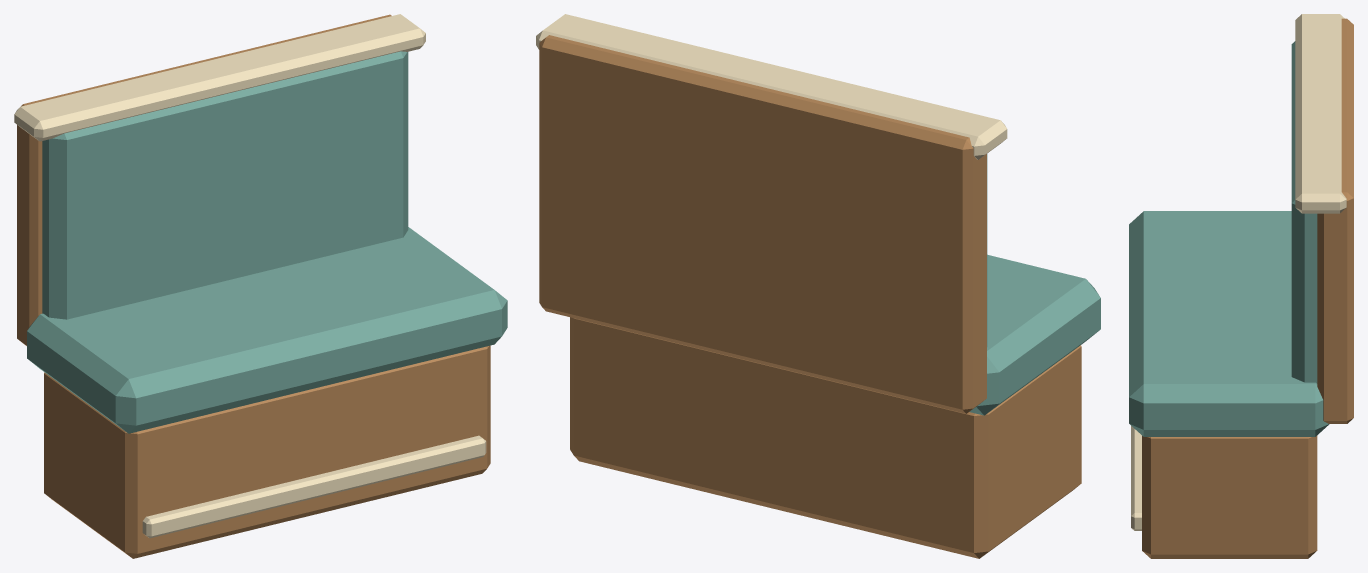
3 renders of one model, left to right at view 1: azimuth 30°, elevation 25°; view 2: azimuth 150°, elevation 25°; view 3: azimuth 270°, elevation 25°, orthographic. The views are drawn at different scales.
Visible parts, largest first — view 1: dining-booth-straight-01; view 2: dining-booth-straight-01; view 3: dining-booth-straight-01.
Part boxes in pixels (box(x1,y1,x2,y2)): dining-booth-straight-01: box(14, 14, 507, 558); dining-booth-straight-01: box(536, 14, 1100, 558); dining-booth-straight-01: box(1129, 14, 1353, 558).
Bounding box in the file's own units: 1.2 × 1.12 × 0.615.
